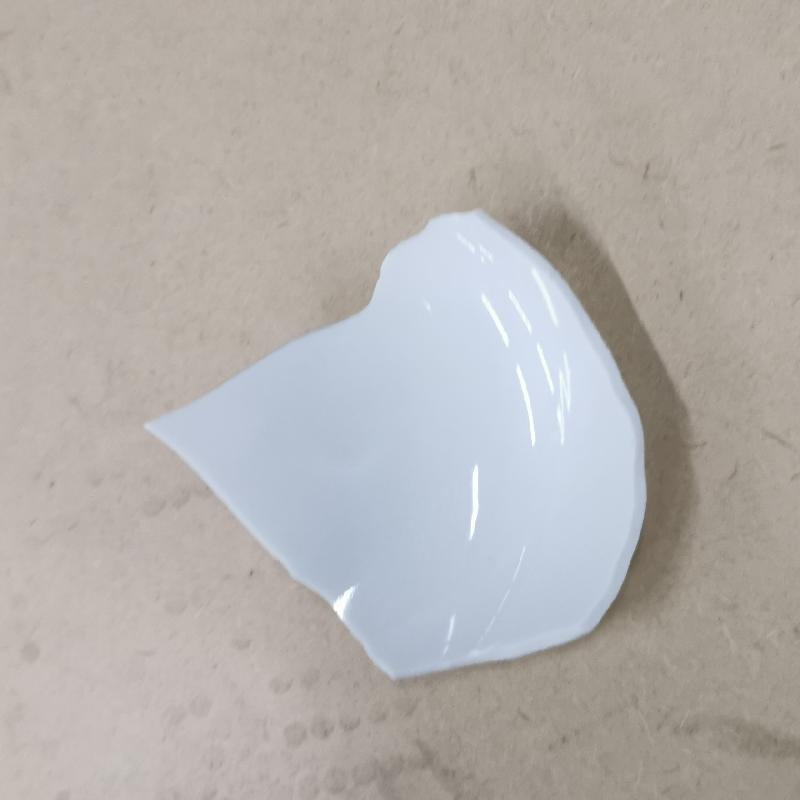ceram: (141, 204, 652, 684)
